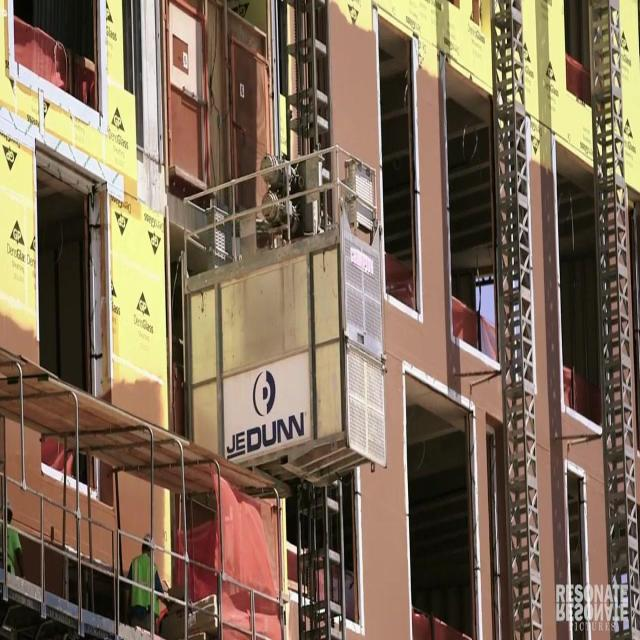Vest: (130, 552, 160, 614)
